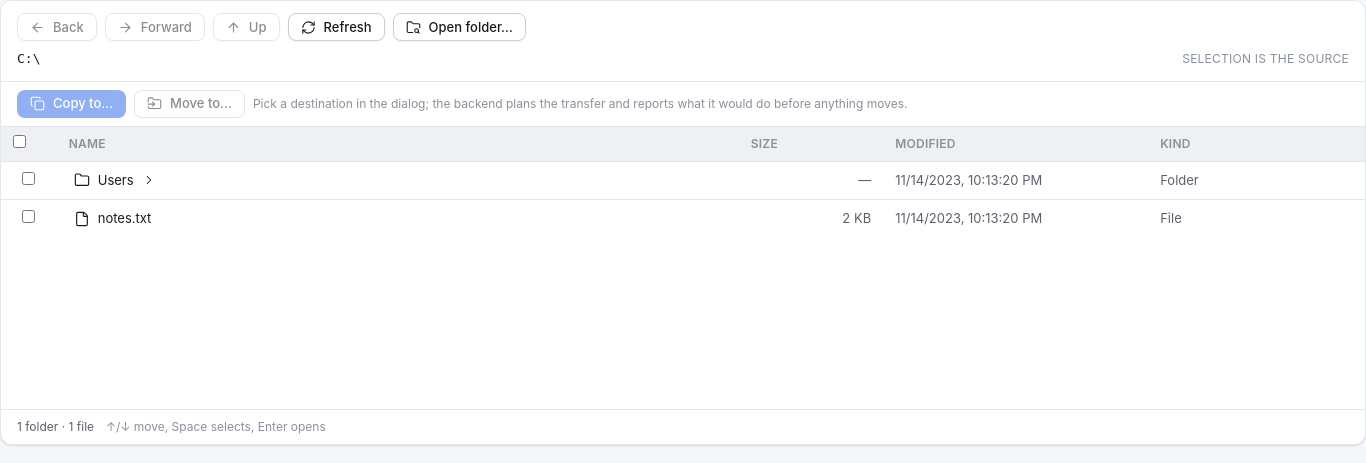
DirectoryBrowser › unchecks everything from the select-all box and the status bar
Click the checkbox named "Select all entries" at (20, 141), box x1=13 y1=134 x2=26 y2=148
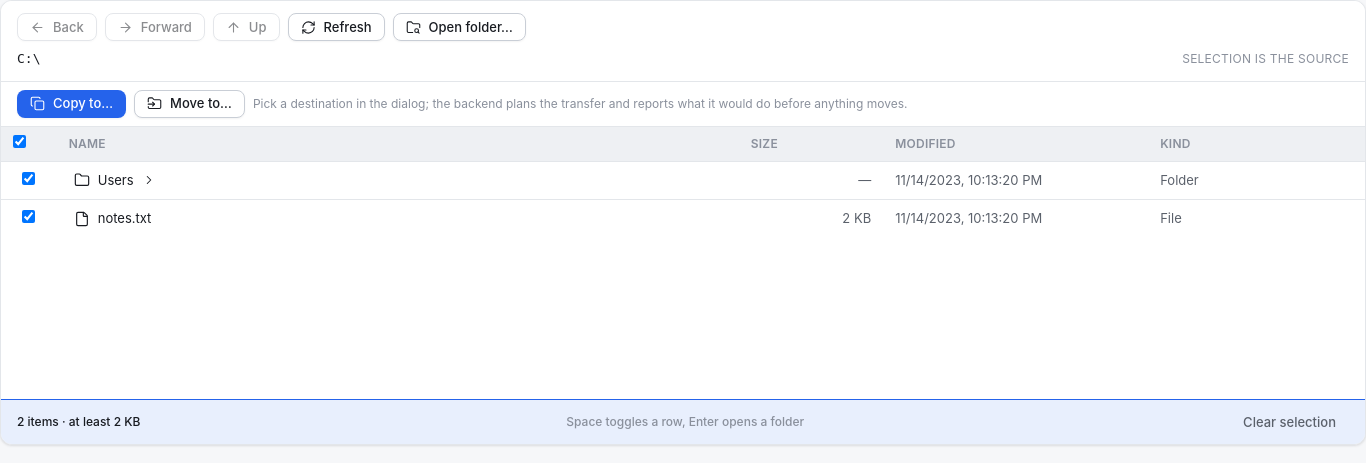
Expected: the button "Copy to…" is enabled, x1=17 y1=90 x2=126 y2=118
Click the button "Clear selection" at (1290, 422), box x1=1230 y1=408 x2=1349 y2=436
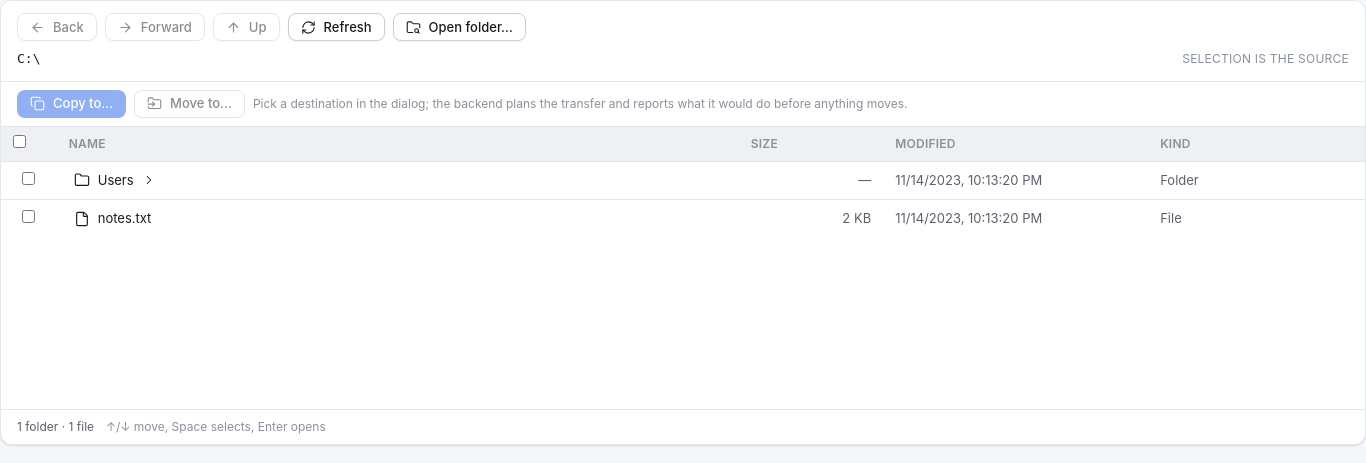
Expected: the checkbox named "Select all entries" is not checked, x1=13 y1=134 x2=26 y2=148
Expected: the button "Copy to…" is disabled, x1=17 y1=90 x2=126 y2=118
